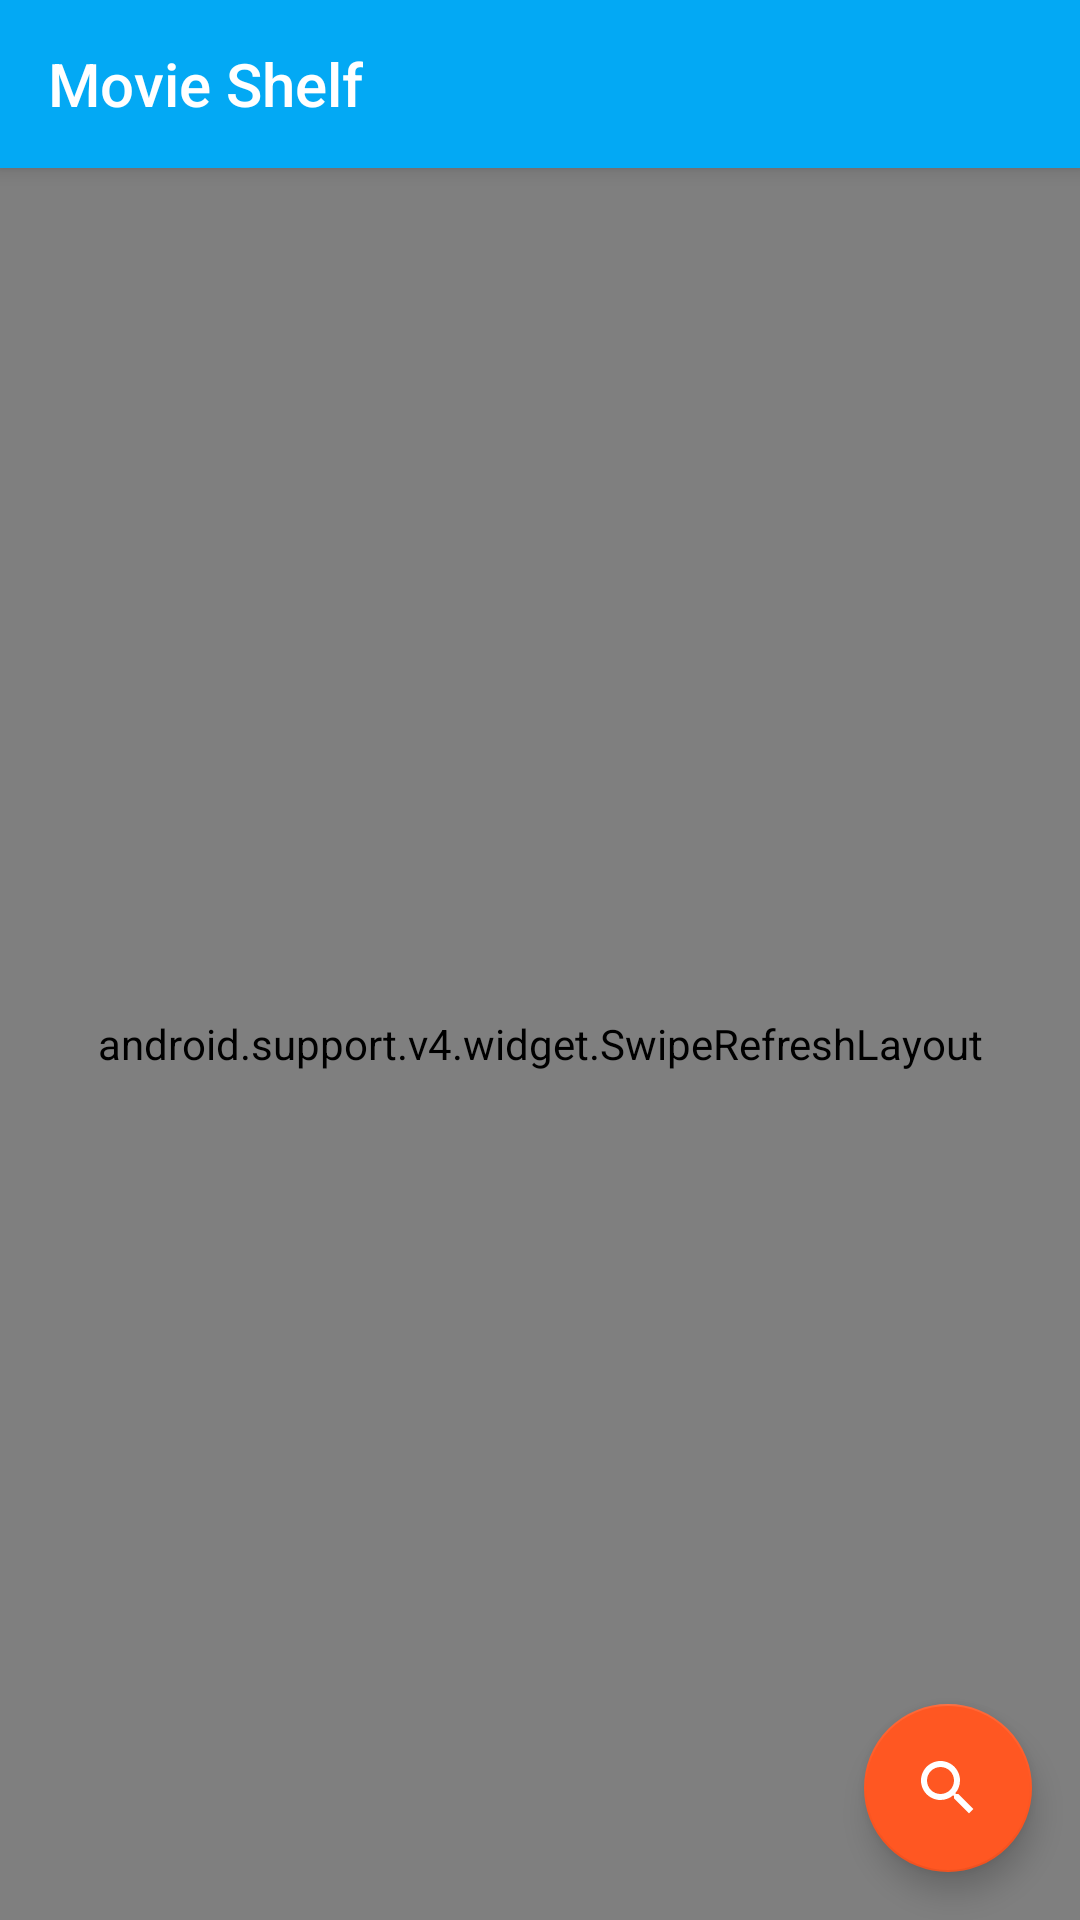

Where to tap for icons on this 1080px x 1920px app screen, as point (x, y):
search: point (948, 1788)
